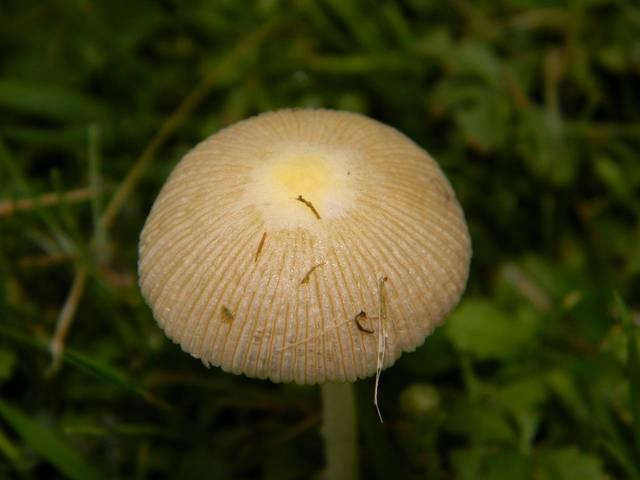edible_mushroom: (136, 105, 473, 478)
